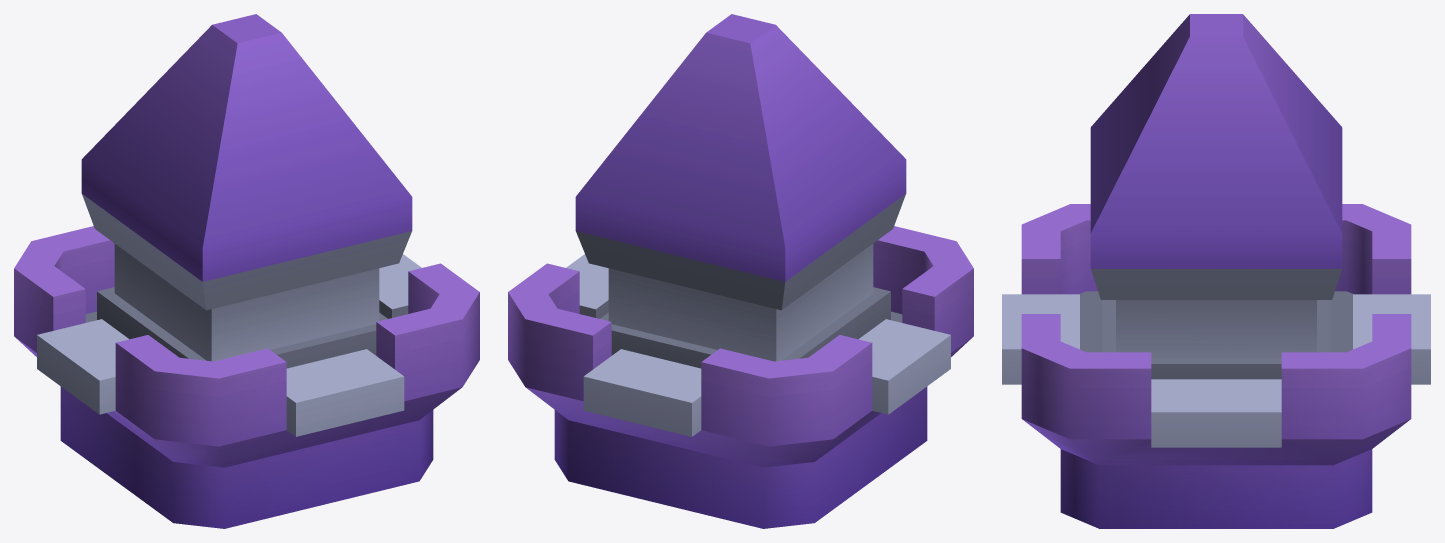
The model's file is tower-square-roof-b.glb.
The picture shows the model from 3 angles, left to right: view 1: azimuth 30°, elevation 25°; view 2: azimuth 150°, elevation 25°; view 3: azimuth 270°, elevation 25°; orthographic projection. The views are drawn at different scales.
Parts seen in each view (by area): view 1: tower-square-roof-b; view 2: tower-square-roof-b; view 3: tower-square-roof-b.
Part boxes in pixels (<box>): tower-square-roof-b: <box>14,14,479,528</box>; tower-square-roof-b: <box>508,14,973,528</box>; tower-square-roof-b: <box>1002,14,1430,528</box>.
Size of the model in its own units: 1.1 by 1.24 by 1.1.
Materials: 1 (1 with a texture image).
